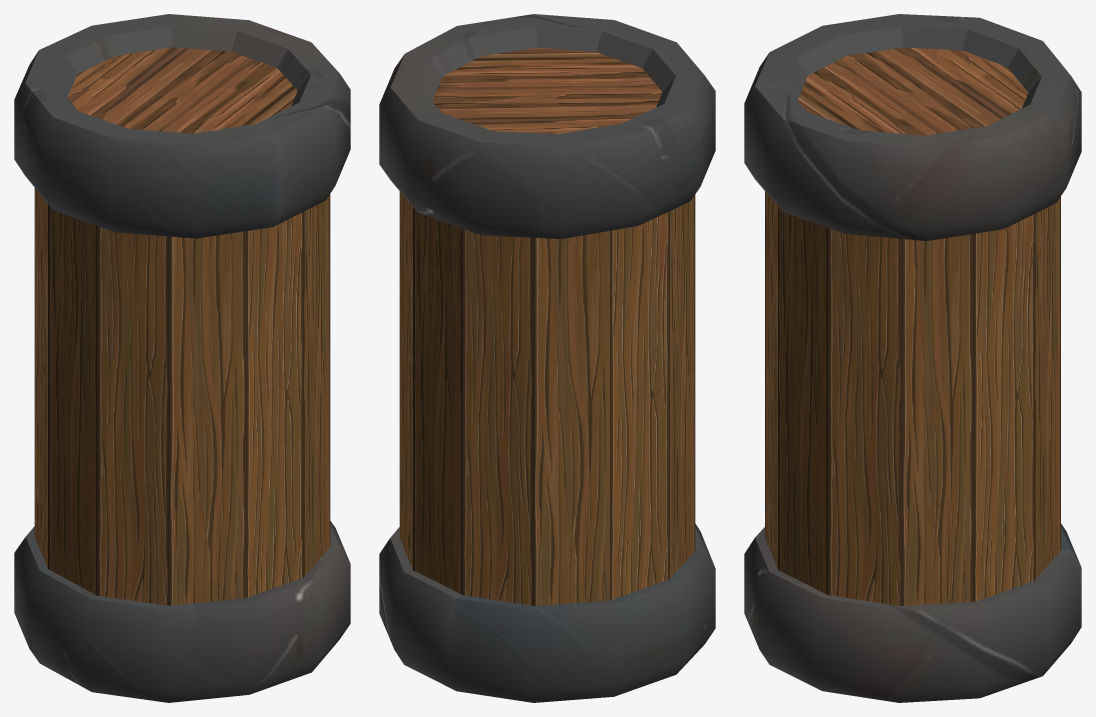
The model's file is Railing_Pillar.fbx.
3 renders of one model, left to right at view 1: azimuth 30°, elevation 25°; view 2: azimuth 150°, elevation 25°; view 3: azimuth 270°, elevation 25°, orthographic.
Parts seen in each view (by area): view 1: 1_Railing_Pillar; view 2: 1_Railing_Pillar; view 3: 1_Railing_Pillar.
Boxes of the visible parts, box(x1,y1,x2,y2) form: 1_Railing_Pillar: box(14, 14, 350, 702); 1_Railing_Pillar: box(379, 14, 715, 702); 1_Railing_Pillar: box(744, 14, 1081, 702).
Bounding box in the file's own units: 66.26 × 122 × 66.26.
